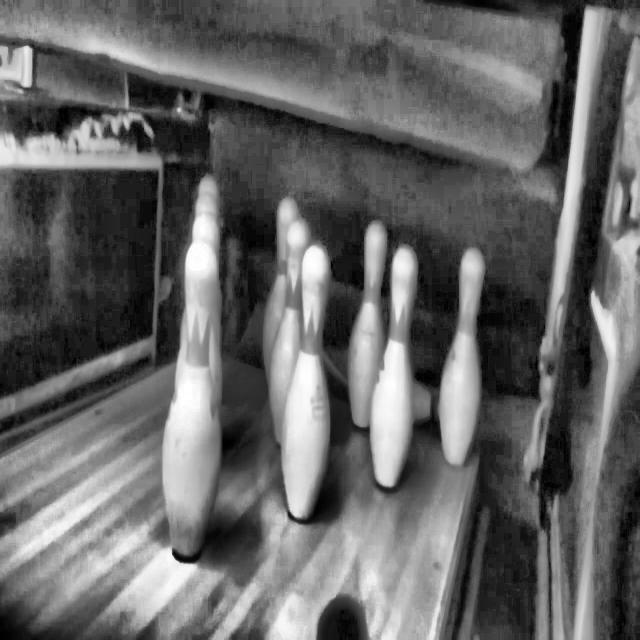bowling-pins: (162, 238, 222, 560), (282, 244, 331, 520), (371, 246, 416, 488), (440, 248, 484, 464), (269, 219, 309, 443), (348, 222, 386, 427), (263, 199, 297, 383)
